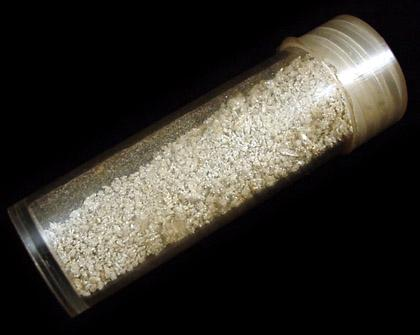silver: (47, 56, 352, 296)
